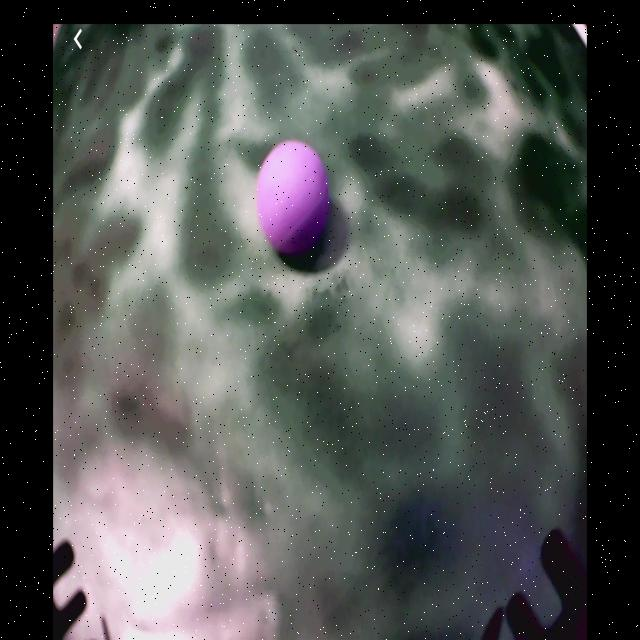ball: (259, 139, 330, 268)
